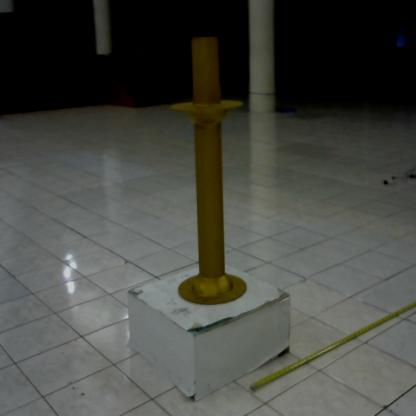pole: (168, 31, 255, 315)
